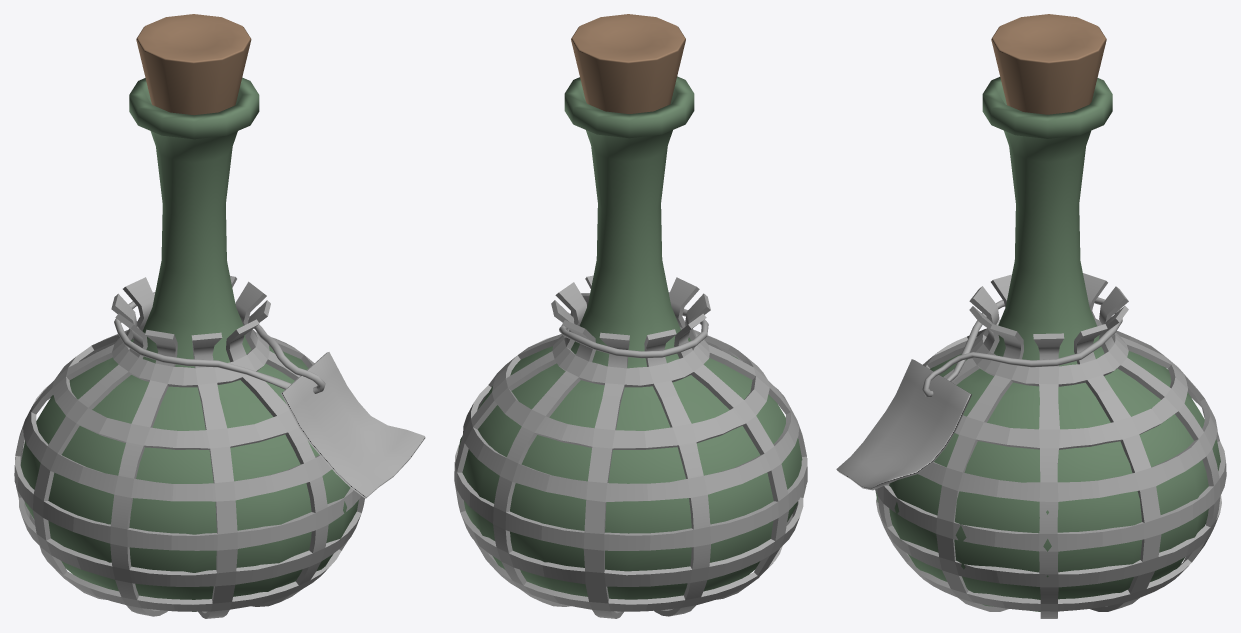
The model's file is strenght_pot.fbx.
The picture shows the model from 3 angles, left to right: view 1: azimuth 30°, elevation 25°; view 2: azimuth 150°, elevation 25°; view 3: azimuth 270°, elevation 25°; orthographic projection.
Parts seen in each view (by area): view 1: pSphere9, polySurface59, pCylinder40, pPlane4, pCylinder34; view 2: polySurface59, pSphere9, pCylinder40, pCylinder34; view 3: pSphere9, polySurface59, pCylinder40, pPlane4, pCylinder34.
Part boxes in pixels (<box>): pSphere9: <box>20,77,358,611</box>; polySurface59: <box>14,276,364,618</box>; pCylinder40: <box>136,14,251,115</box>; pPlane4: <box>281,352,425,498</box>; pCylinder34: <box>114,292,325,393</box>; polySurface59: <box>454,275,807,618</box>; pSphere9: <box>458,76,802,599</box>; pCylinder40: <box>571,14,685,113</box>; pCylinder34: <box>559,309,708,358</box>; pSphere9: <box>875,77,1220,611</box>; polySurface59: <box>875,273,1226,618</box>; pCylinder40: <box>991,14,1106,114</box>; pPlane4: <box>836,359,971,490</box>; pCylinder34: <box>922,297,1122,397</box>.
Size of the model in its own units: 9.84 by 16.65 by 10.81.
